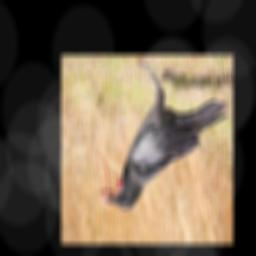Crow: (92, 61, 229, 214)
